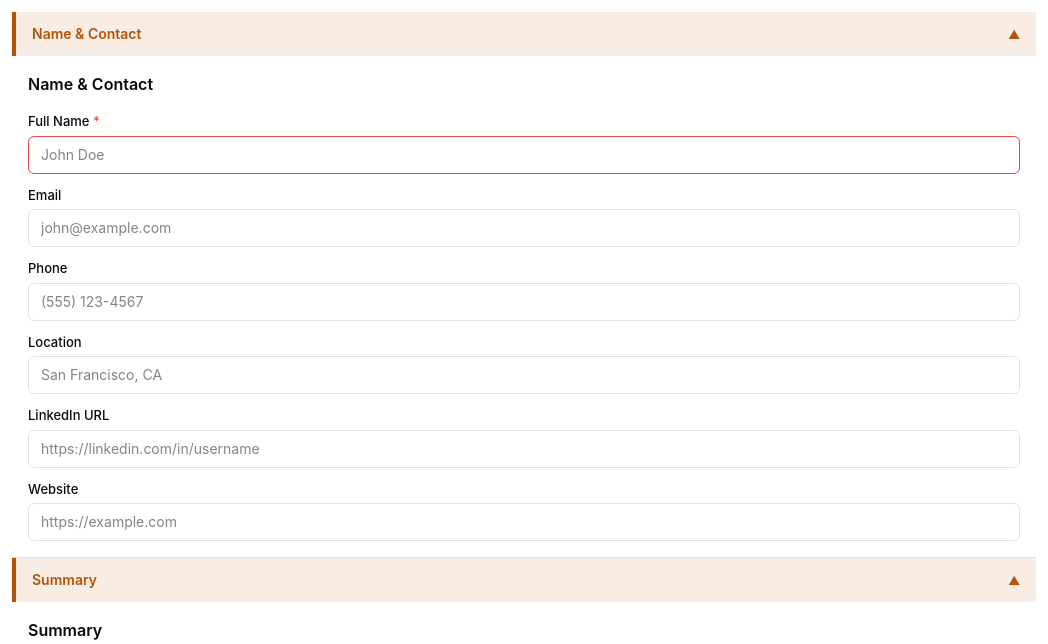
SectionEditor › collapse/expand › collapses a section when header is clicked
Note: Click the first section header (name_contact)
Click the button "Name & Contact ▼".
click(87, 34)  # box [12,12,1036,56]
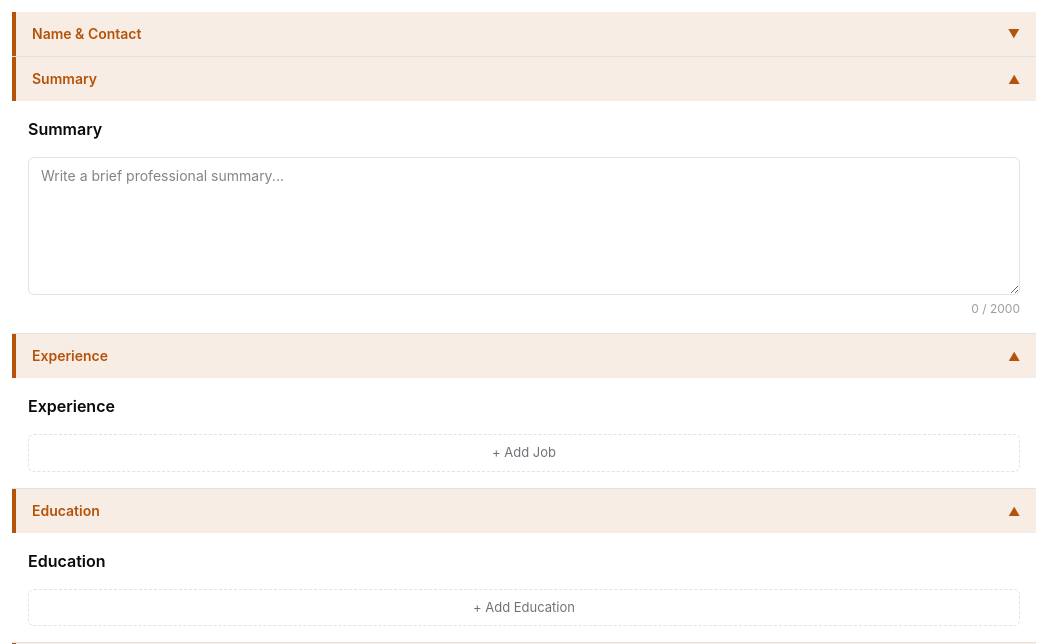
Now the button "Name & Contact ▼" is collapsed, box [12,12,1036,56]
